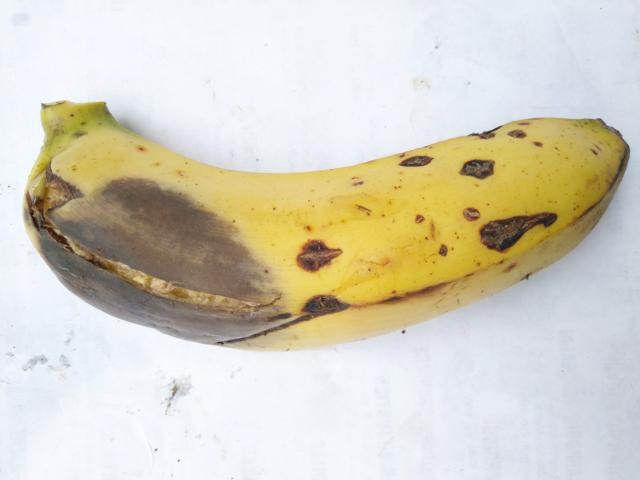rotten: (7, 161, 284, 366), (454, 201, 567, 259), (279, 220, 352, 280), (457, 99, 537, 145), (440, 148, 511, 196), (290, 280, 360, 325), (375, 135, 437, 184)
